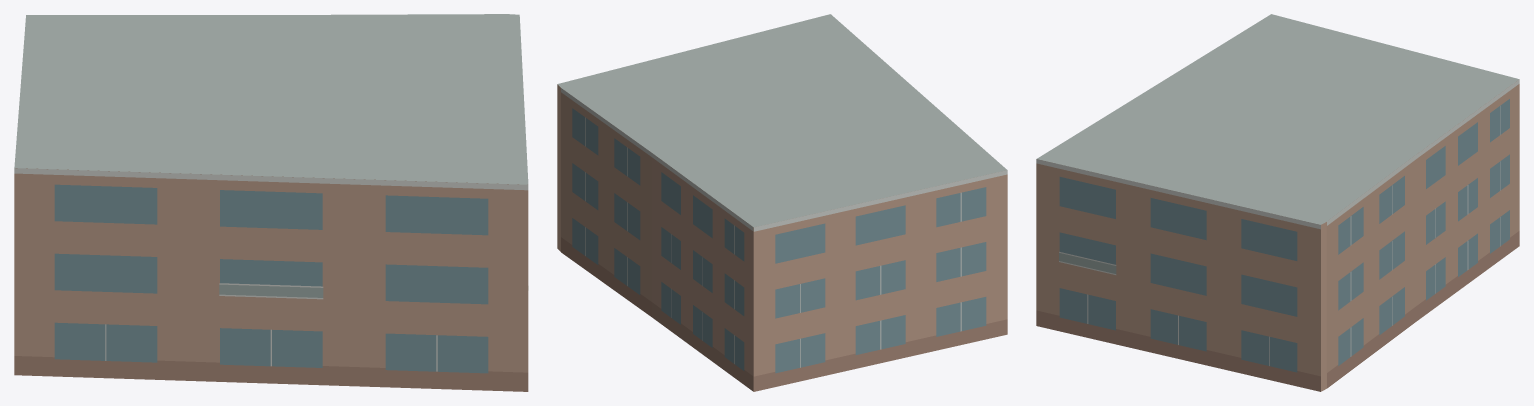
File: survey-upis-32471276.glb
3 views of the same model, side by side, from view 1: azimuth 30°, elevation 25°; view 2: azimuth 150°, elevation 25°; view 3: azimuth 270°, elevation 25° (orthographic). The views are drawn at different scales.
Parts seen in each view (by area): view 1: survey-upis-32471276.tmp; view 2: survey-upis-32471276.tmp; view 3: survey-upis-32471276.tmp.
Boxes of the visible parts, x1,y1,x2,y2 form: survey-upis-32471276.tmp: (14, 14, 528, 391); survey-upis-32471276.tmp: (557, 14, 1007, 391); survey-upis-32471276.tmp: (1036, 14, 1519, 391).
Bounding box in the file's own units: 24.79 × 9.15 × 24.
